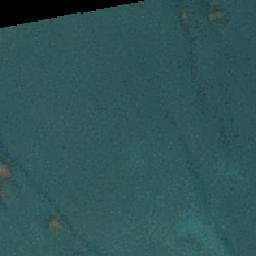debris: (1, 159, 12, 182), (45, 215, 61, 230)
